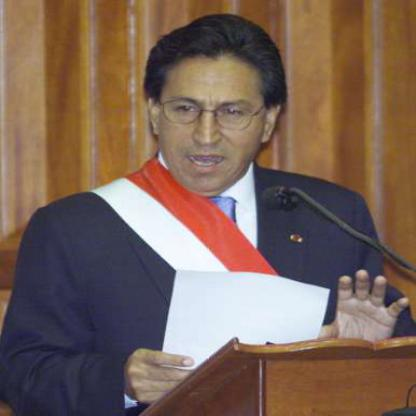face: (159, 36, 270, 195)
